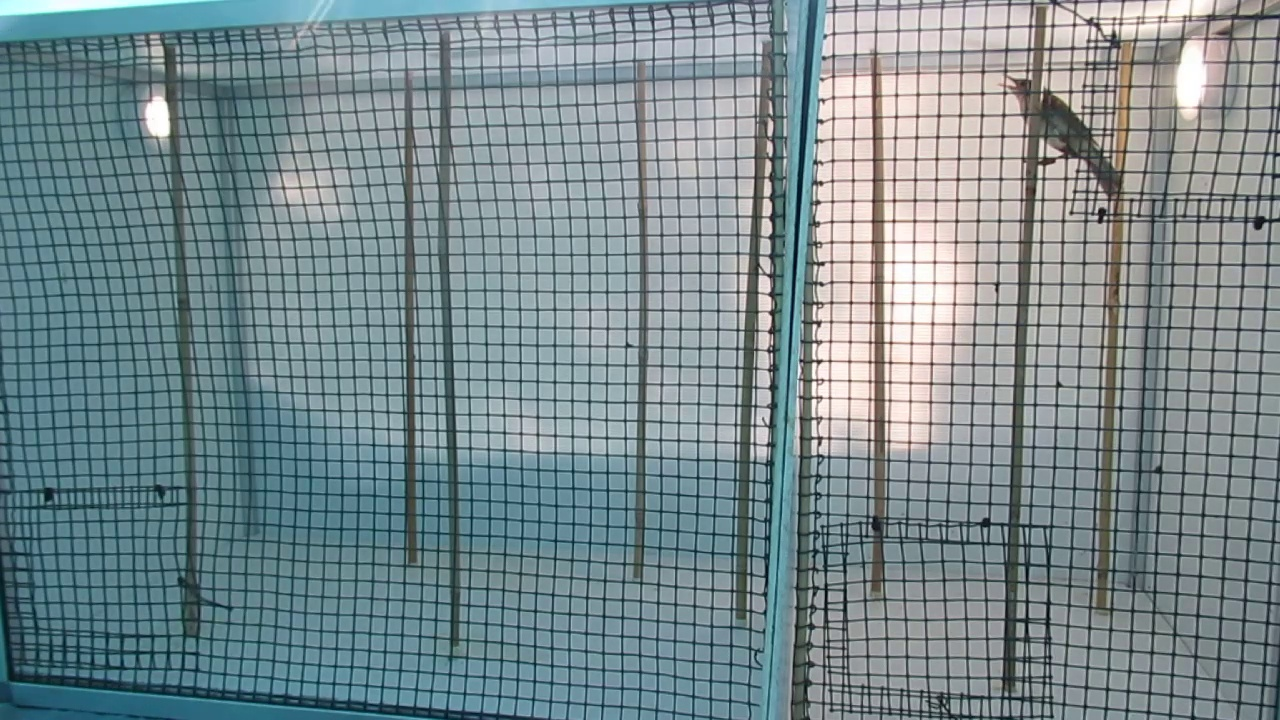bird: (999, 74, 1109, 204)
stick: (1002, 13, 1044, 684), (733, 46, 777, 617), (1093, 45, 1135, 605), (160, 50, 200, 631), (433, 37, 462, 643), (866, 59, 888, 588), (401, 78, 421, 564), (634, 62, 649, 577)
